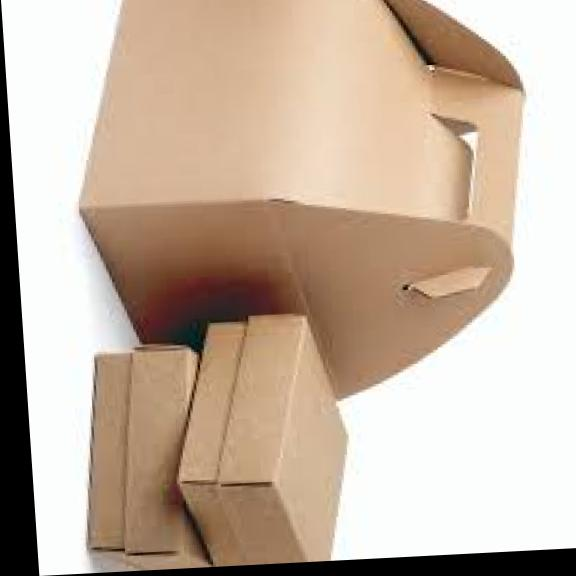Kertas: (80, 0, 523, 398), (176, 314, 345, 566), (87, 347, 206, 570)
